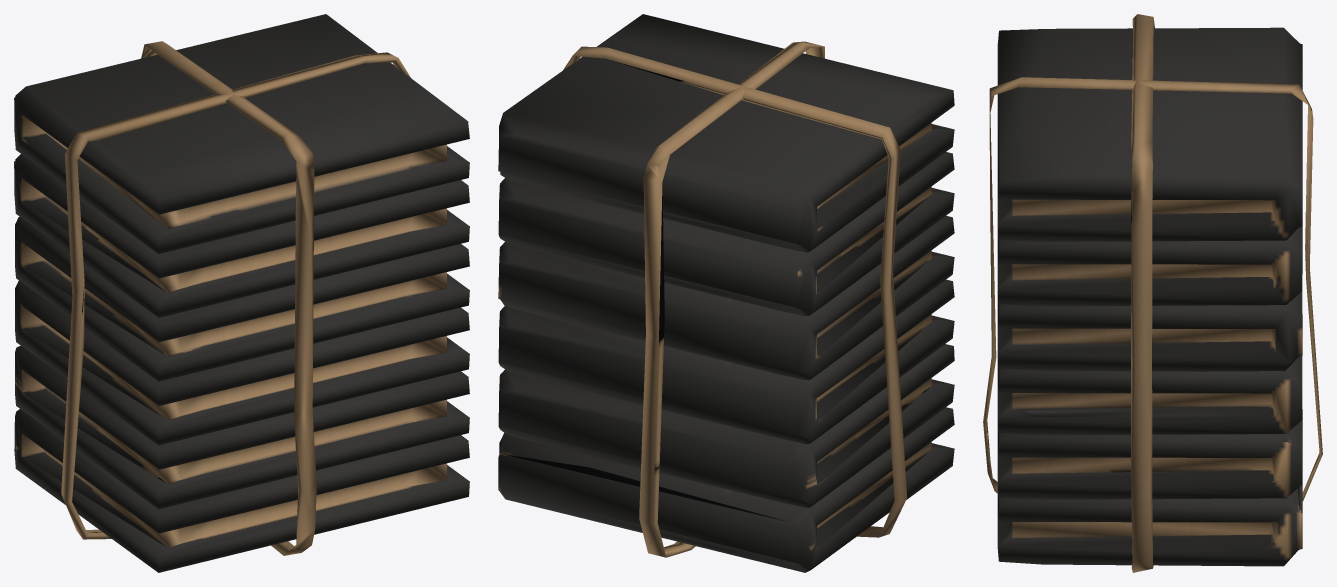
The model's file is PilhaDeLivros.fbx.
The picture shows the model from 3 angles, left to right: view 1: azimuth 30°, elevation 25°; view 2: azimuth 150°, elevation 25°; view 3: azimuth 270°, elevation 25°; orthographic projection.
Parts seen in each view (by area): view 1: PilhaDeLivros; view 2: PilhaDeLivros; view 3: PilhaDeLivros.
Boxes of the visible parts, x1,y1,x2,y2 form: PilhaDeLivros: (14, 14, 469, 572); PilhaDeLivros: (498, 14, 954, 572); PilhaDeLivros: (983, 14, 1322, 572).
Size of the model in its own units: 43.25 by 49.9 by 35.73.
